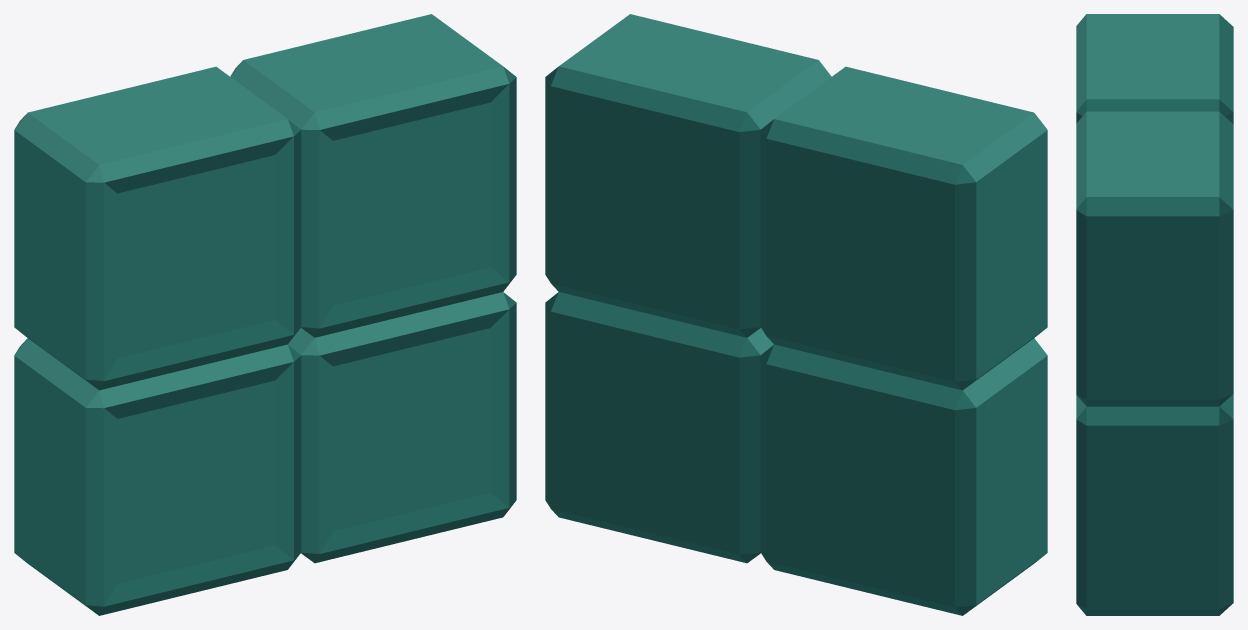
File: Terrain_Block2x2.gltf
3 renders of one model, left to right at view 1: azimuth 30°, elevation 25°; view 2: azimuth 150°, elevation 25°; view 3: azimuth 270°, elevation 25°, orthographic. The views are drawn at different scales.
Visible parts, largest first — view 1: Terrain_Block2x2_baked; view 2: Terrain_Block2x2_baked; view 3: Terrain_Block2x2_baked.
Boxes of the visible parts, x1,y1,x2,y2 form: Terrain_Block2x2_baked: (14, 14, 516, 615); Terrain_Block2x2_baked: (545, 14, 1047, 615); Terrain_Block2x2_baked: (1076, 14, 1233, 615).
Size of the model in its own units: 2 by 2 by 0.6822.
